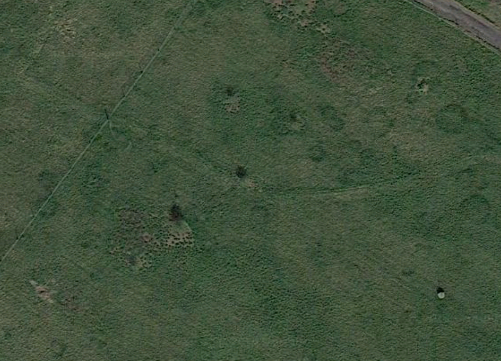tree: (159, 208, 195, 238), (231, 168, 258, 192)
